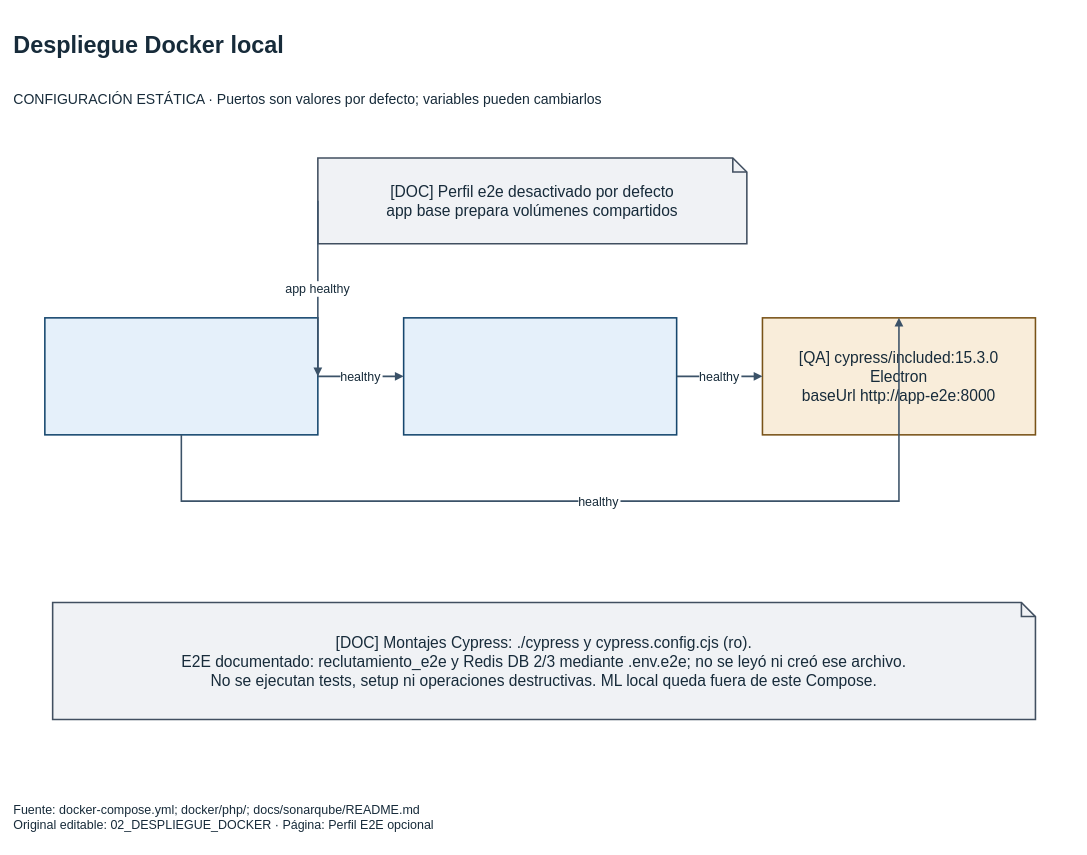
Some shapes in this 1087 by 855 pixel diagram are drawn without their labels. The centre of each missing label's shape, as x and y in pixels:
[SIS] app-e2e APP_ENV=e2e 127.0.0.1:8001 → 8000: (181,376)
[SIS] queue-e2e APP_ENV=e2e Sin puerto publicado: (539,376)
